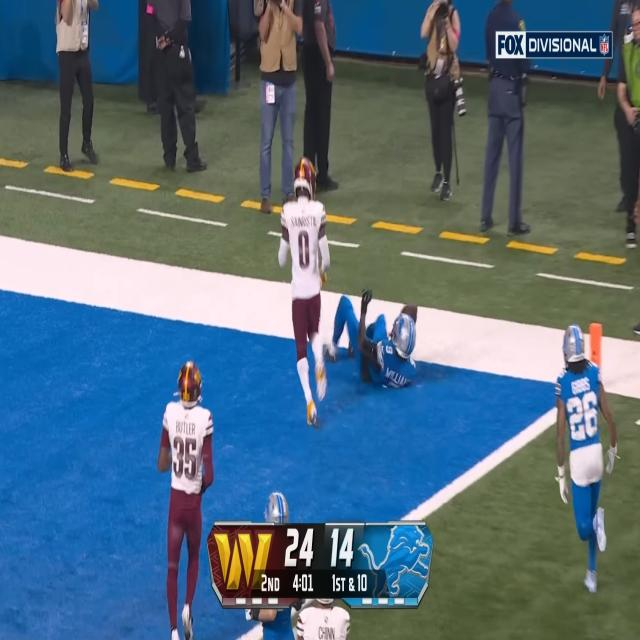Ball: (398, 304, 418, 328)
